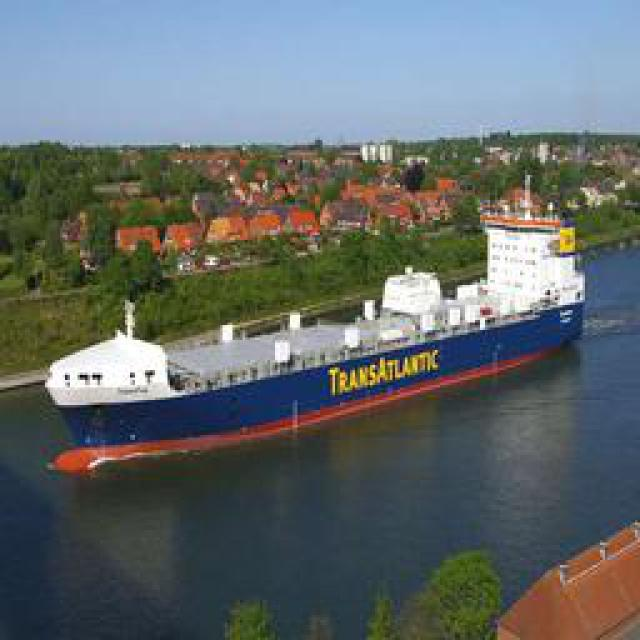Ship: (50, 215, 583, 463)
